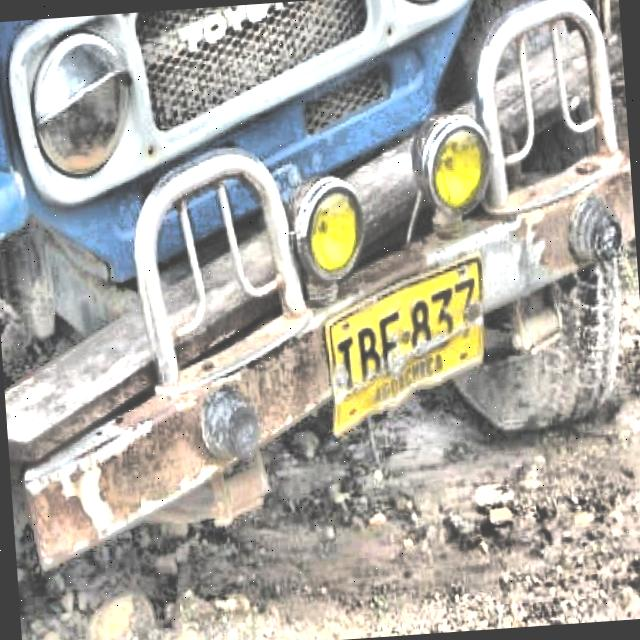plate: (326, 258, 482, 434)
